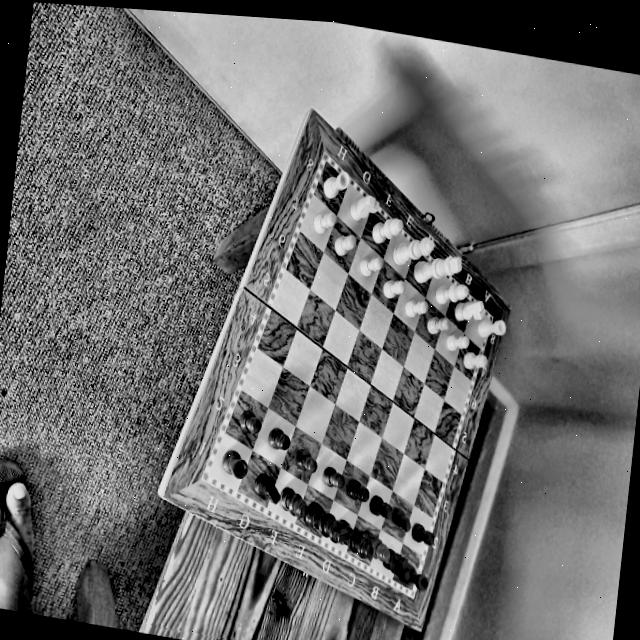black-bishop: (350, 525, 392, 564), (275, 482, 310, 521)
black-king: (299, 497, 352, 547)
black-knight: (376, 543, 413, 583), (250, 468, 282, 507)
black-pawn: (233, 405, 264, 438), (291, 442, 320, 477), (365, 490, 394, 523), (317, 460, 346, 491), (263, 424, 292, 454), (342, 475, 370, 505), (408, 520, 436, 549), (388, 504, 415, 534)
black-queen: (328, 516, 376, 561)
black-rook: (216, 443, 249, 483), (398, 556, 430, 593)
white-bishop: (386, 226, 436, 274), (430, 273, 470, 312), (366, 209, 404, 249)
white-king: (409, 244, 462, 291)
white-knight: (346, 185, 382, 226), (450, 290, 486, 329)
white-pawn: (329, 225, 358, 262), (307, 204, 338, 238), (355, 248, 384, 282), (379, 273, 406, 303), (402, 292, 428, 322), (423, 310, 449, 338), (461, 347, 487, 374), (443, 329, 469, 354)
white-rook: (318, 161, 352, 204), (474, 312, 508, 341)
